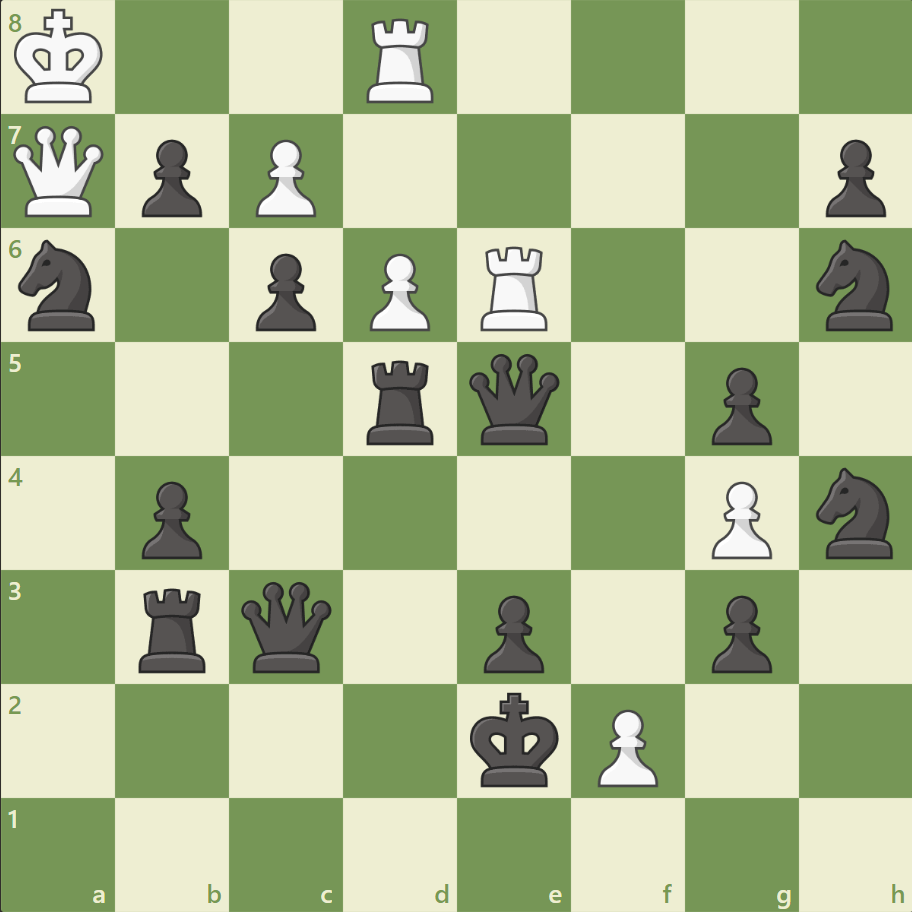K: (11, 4, 111, 112)
P: (247, 132, 322, 223), (701, 473, 776, 564), (361, 246, 435, 337), (588, 700, 662, 791)
Q: (10, 122, 109, 222)
R: (473, 239, 556, 336), (360, 12, 442, 109)
k: (465, 685, 565, 793)
n: (11, 234, 108, 337), (806, 234, 903, 337), (806, 461, 903, 564)
p: (133, 132, 208, 223), (247, 246, 322, 337), (701, 359, 776, 450), (133, 473, 208, 564), (474, 586, 549, 677), (701, 586, 776, 677), (815, 132, 889, 223)
q: (464, 349, 563, 449), (237, 576, 336, 676)
r: (360, 352, 442, 449), (133, 579, 215, 676)
